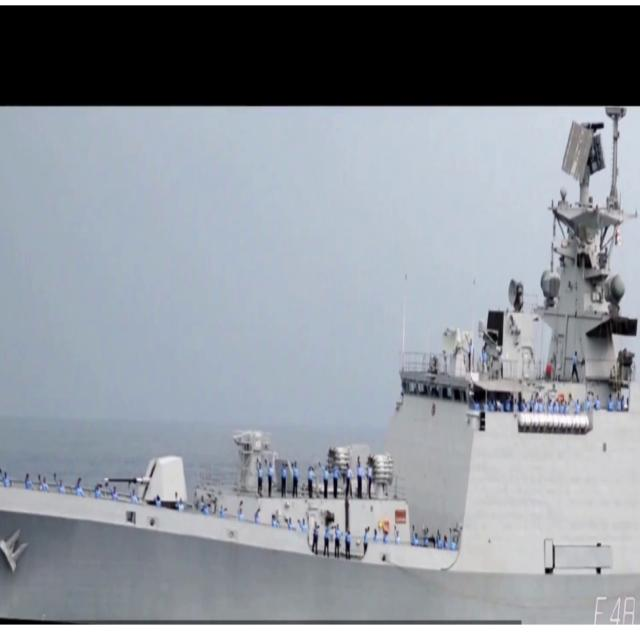OCR: (590, 586, 636, 623)
